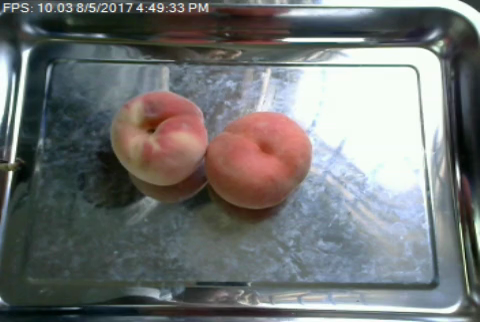Peach: (203, 111, 312, 208), (110, 89, 209, 188)
